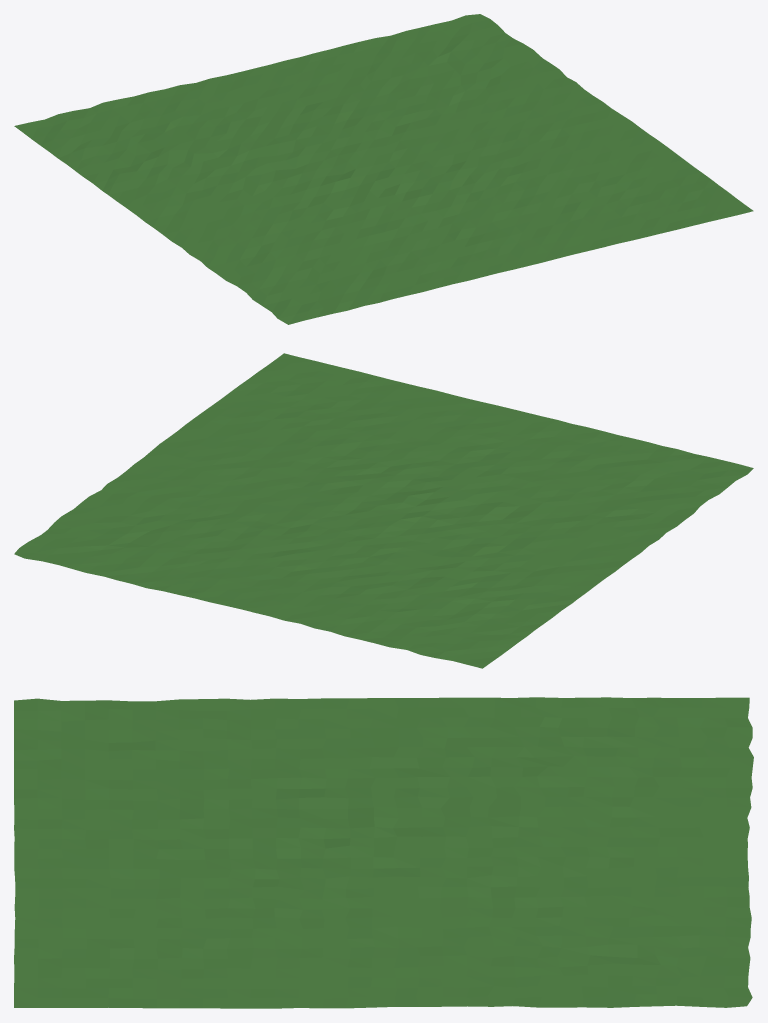
Rendered from grass_plane_basic.glb.
3 views of the same model, one above another, from view 1: azimuth 30°, elevation 25°; view 2: azimuth 150°, elevation 25°; view 3: azimuth 270°, elevation 25° (orthographic). The views are drawn at different scales.
Parts seen in each view (by area): view 1: Plane; view 2: Plane; view 3: Plane.
Boxes of the visible parts, x1,y1,x2,y2 form: Plane: (14, 14, 753, 324); Plane: (14, 353, 753, 668); Plane: (14, 697, 753, 1008).
Bounding box in the file's own units: 39.94 × 0.2156 × 40.26.
